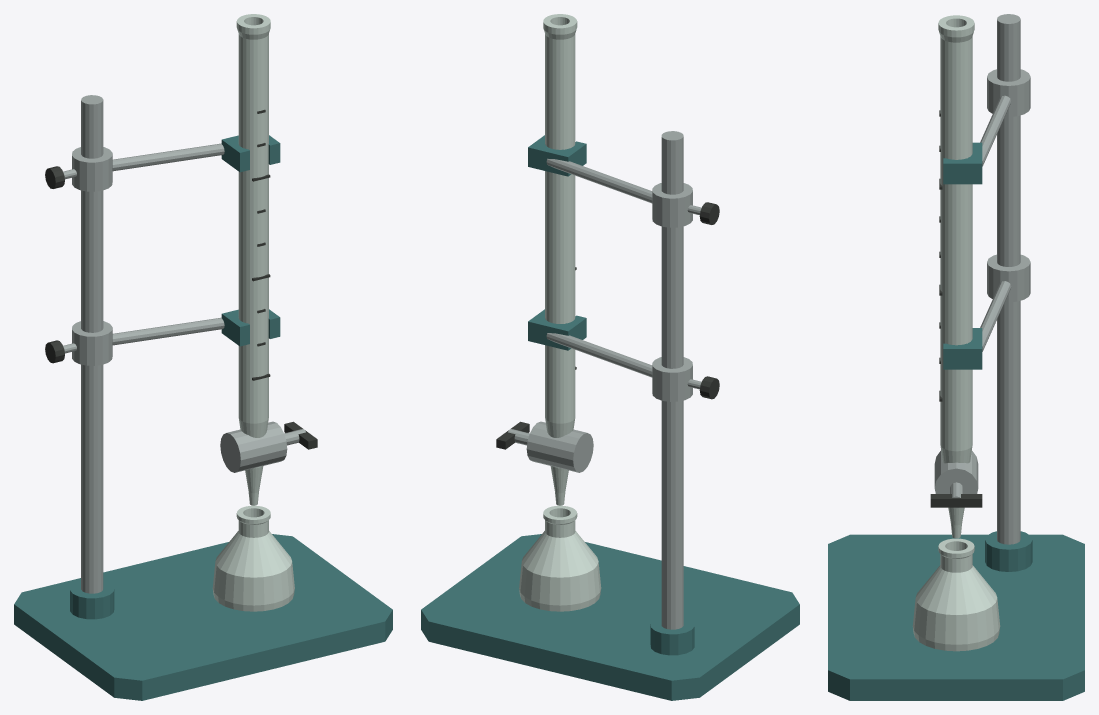
3 renders of one model, left to right at view 1: azimuth 30°, elevation 25°; view 2: azimuth 150°, elevation 25°; view 3: azimuth 270°, elevation 25°, orthographic. The views are drawn at different scales.
Visible parts, largest first — view 1: WholeChamferedStandBase, WholeOpenLongBuretteTube, WholeStandRod, WholeEmptyReceivingFlask, WholeFixedStopcockBarrel, WholeBoredRodSleeve1, WholeBoredRodSleeve0, WholeClampReachArm1, WholeClampReachArm0, WholeRodFootBoss, WholeFrontOpenTubeJaw0, WholeFrontOpenTubeJaw1; view 2: WholeChamferedStandBase, WholeOpenLongBuretteTube, WholeStandRod, WholeEmptyReceivingFlask, WholeFixedStopcockBarrel, WholeBoredRodSleeve0, WholeBoredRodSleeve1, WholeRodFootBoss, WholeClampReachArm0, WholeClampReachArm1, WholeFrontOpenTubeJaw1, WholeFrontOpenTubeJaw0; view 3: WholeChamferedStandBase, WholeOpenLongBuretteTube, WholeStandRod, WholeEmptyReceivingFlask, WholeRodFootBoss, WholeBoredRodSleeve1, WholeBoredRodSleeve0, WholeFixedStopcockBarrel, WholeFrontOpenTubeJaw1, WholeFrontOpenTubeJaw0, WholeClampReachArm1, WholeClampReachArm0 (+1 smaller).
Boxes of the visible parts, x1=… form: WholeChamferedStandBase: x1=14, y1=534, x2=392, y2=700; WholeOpenLongBuretteTube: x1=236, y1=14, x2=270, y2=437; WholeStandRod: x1=81, y1=95, x2=103, y2=593; WholeEmptyReceivingFlask: x1=212, y1=505, x2=294, y2=611; WholeFixedStopcockBarrel: x1=220, y1=421, x2=287, y2=472; WholeBoredRodSleeve1: x1=72, y1=147, x2=112, y2=191; WholeBoredRodSleeve0: x1=72, y1=321, x2=112, y2=365; WholeClampReachArm1: x1=112, y1=143, x2=224, y2=171; WholeClampReachArm0: x1=112, y1=317, x2=224, y2=345; WholeRodFootBoss: x1=70, y1=581, x2=114, y2=619; WholeFrontOpenTubeJaw0: x1=221, y1=309, x2=280, y2=346; WholeFrontOpenTubeJaw1: x1=221, y1=135, x2=280, y2=172; WholeChamferedStandBase: x1=421, y1=534, x2=799, y2=700; WholeOpenLongBuretteTube: x1=543, y1=14, x2=577, y2=437; WholeStandRod: x1=661, y1=131, x2=683, y2=629; WholeEmptyReceivingFlask: x1=519, y1=505, x2=601, y2=611; WholeFixedStopcockBarrel: x1=526, y1=421, x2=593, y2=472; WholeBoredRodSleeve0: x1=652, y1=357, x2=692, y2=401; WholeBoredRodSleeve1: x1=652, y1=183, x2=692, y2=227; WholeRodFootBoss: x1=650, y1=617, x2=694, y2=655; WholeClampReachArm0: x1=546, y1=333, x2=652, y2=377; WholeClampReachArm1: x1=546, y1=158, x2=652, y2=203; WholeFrontOpenTubeJaw1: x1=528, y1=135, x2=586, y2=176; WholeFrontOpenTubeJaw0: x1=528, y1=309, x2=586, y2=350; WholeChamferedStandBase: x1=828, y1=534, x2=1084, y2=700; WholeOpenLongBuretteTube: x1=938, y1=15, x2=974, y2=463; WholeStandRod: x1=997, y1=14, x2=1020, y2=544; WholeEmptyReceivingFlask: x1=912, y1=538, x2=1000, y2=651; WholeRodFootBoss: x1=985, y1=531, x2=1032, y2=571; WholeBoredRodSleeve1: x1=987, y1=69, x2=1030, y2=116; WholeBoredRodSleeve0: x1=987, y1=254, x2=1030, y2=302; WholeFixedStopcockBarrel: x1=934, y1=450, x2=978, y2=493; WholeFrontOpenTubeJaw1: x1=943, y1=142, x2=982, y2=184; WholeFrontOpenTubeJaw0: x1=943, y1=328, x2=982, y2=369; WholeClampReachArm1: x1=980, y1=95, x2=1011, y2=166; WholeClampReachArm0: x1=980, y1=281, x2=1011, y2=351.
Bounding box in the file's own units: 0.36 × 0.733 × 0.27.
